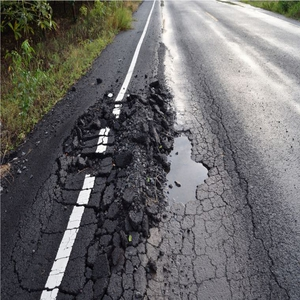pothole: (156, 135, 215, 217)
